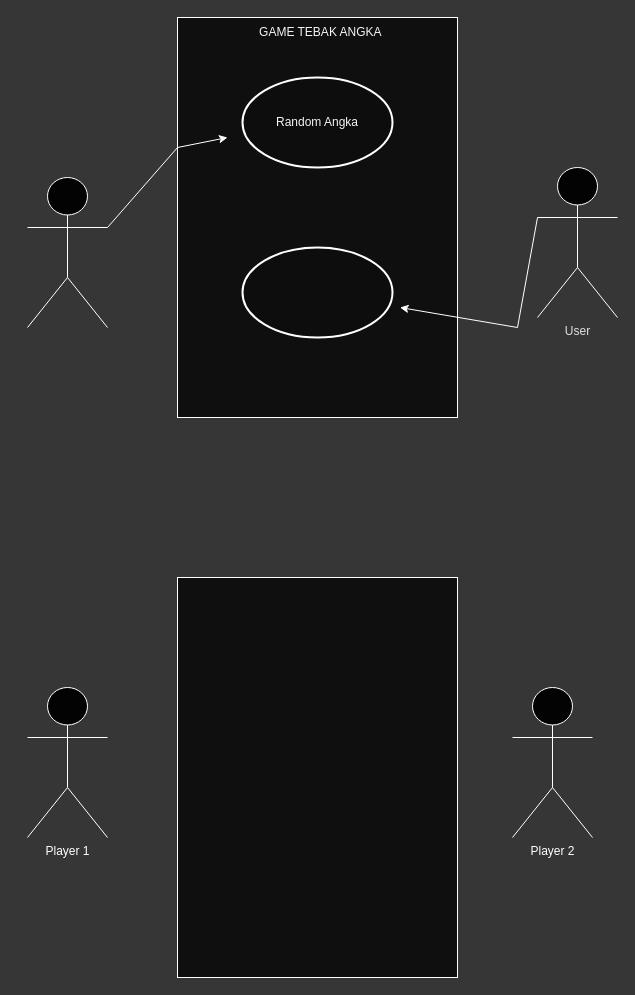
This 635x995 diagram has some shape labels left out. Here are the shapes that lost their labels. From the top down, the box of each, then its label:
(26, 176, 108, 328): Computer
(241, 246, 393, 338): Tebak Angka
